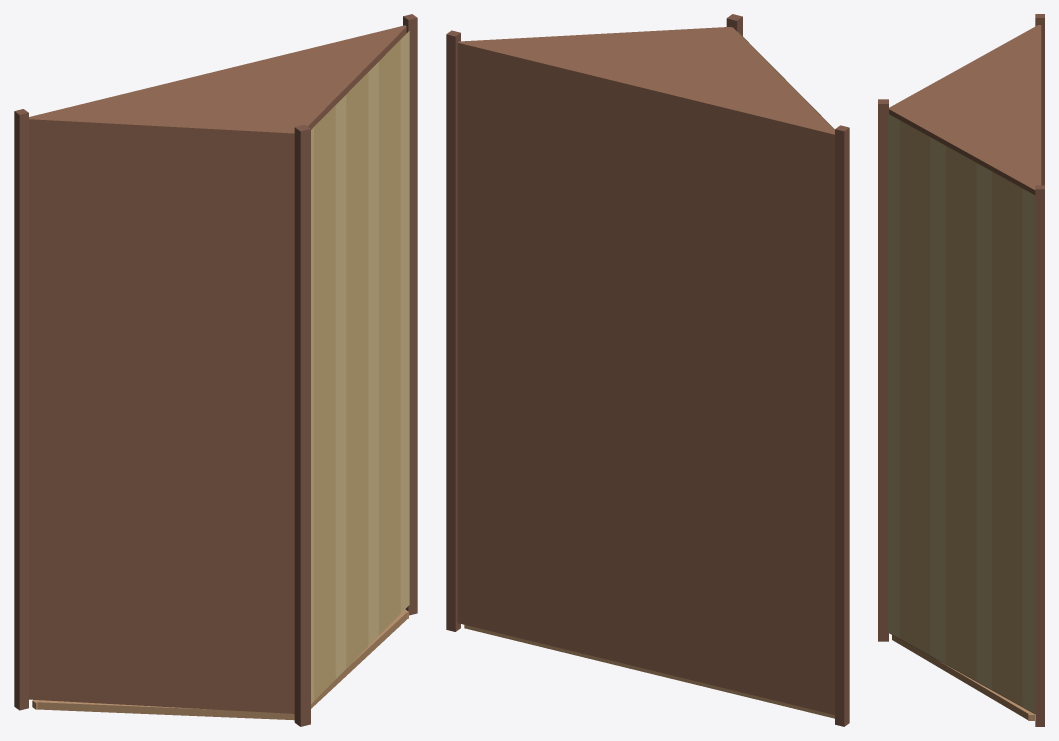
Rendered from atap_prisma_segitiga_saja.glb.
3 views of the same model, side by side, from view 1: azimuth 30°, elevation 25°; view 2: azimuth 150°, elevation 25°; view 3: azimuth 270°, elevation 25° (orthographic). The views are drawn at different scales.
Parts seen in each view (by area): view 1: Bentuk dasar prisma segitiga, Balok bubungan memanjang, Lis tepi atap -1, Jalur jerami sisi 1 5, Jalur jerami sisi 1 3, Jalur jerami sisi 1 6, Jalur jerami sisi 1 4, Jalur jerami sisi 1 8, Jalur jerami sisi 1 2, Jalur jerami sisi 1 7, Jalur jerami sisi 1 9, Jalur jerami sisi 1 10 (+4 smaller); view 2: Bentuk dasar prisma segitiga, Lis tepi atap -1, Lis tepi atap 1, Balok dasar segitiga depan; view 3: Bentuk dasar prisma segitiga, Jalur jerami sisi 1 2, Jalur jerami sisi 1 5, Jalur jerami sisi 1 3, Jalur jerami sisi 1 4, Jalur jerami sisi 1 6, Jalur jerami sisi 1 9, Jalur jerami sisi 1 8, Jalur jerami sisi 1 7, Jalur jerami sisi 1 10, Jalur jerami sisi 1 1, Balok bubungan memanjang (+3 smaller).
Boxes of the visible parts, x1,y1,x2,y2 form: Bentuk dasar prisma segitiga: [29, 25, 406, 713]; Balok bubungan memanjang: [294, 124, 310, 726]; Lis tepi atap -1: [14, 109, 28, 710]; Jalur jerami sisi 1 5: [346, 83, 357, 668]; Jalur jerami sisi 1 3: [324, 105, 335, 689]; Jalur jerami sisi 1 6: [357, 72, 368, 656]; Jalur jerami sisi 1 4: [335, 95, 346, 678]; Jalur jerami sisi 1 8: [379, 50, 389, 635]; Jalur jerami sisi 1 2: [314, 116, 324, 700]; Jalur jerami sisi 1 7: [368, 62, 378, 645]; Jalur jerami sisi 1 9: [390, 40, 400, 623]; Jalur jerami sisi 1 10: [400, 31, 409, 613]; Bentuk dasar prisma segitiga: [457, 27, 834, 714]; Lis tepi atap -1: [835, 125, 849, 726]; Lis tepi atap 1: [446, 30, 460, 631]; Balok dasar segitiga depan: [464, 625, 834, 718]; Bentuk dasar prisma segitiga: [889, 25, 1041, 713]; Jalur jerami sisi 1 2: [899, 120, 914, 646]; Jalur jerami sisi 1 5: [946, 146, 961, 672]; Jalur jerami sisi 1 3: [915, 129, 930, 655]; Jalur jerami sisi 1 4: [930, 137, 945, 663]; Jalur jerami sisi 1 6: [961, 154, 976, 680]; Jalur jerami sisi 1 9: [1007, 180, 1022, 706]; Jalur jerami sisi 1 8: [992, 171, 1007, 697]; Jalur jerami sisi 1 7: [976, 163, 991, 689]; Jalur jerami sisi 1 10: [1022, 188, 1035, 713]; Jalur jerami sisi 1 1: [888, 114, 899, 638]; Balok bubungan memanjang: [878, 99, 888, 641].
Size of the model in its own units: 6.89 by 9.87 by 2.77.
